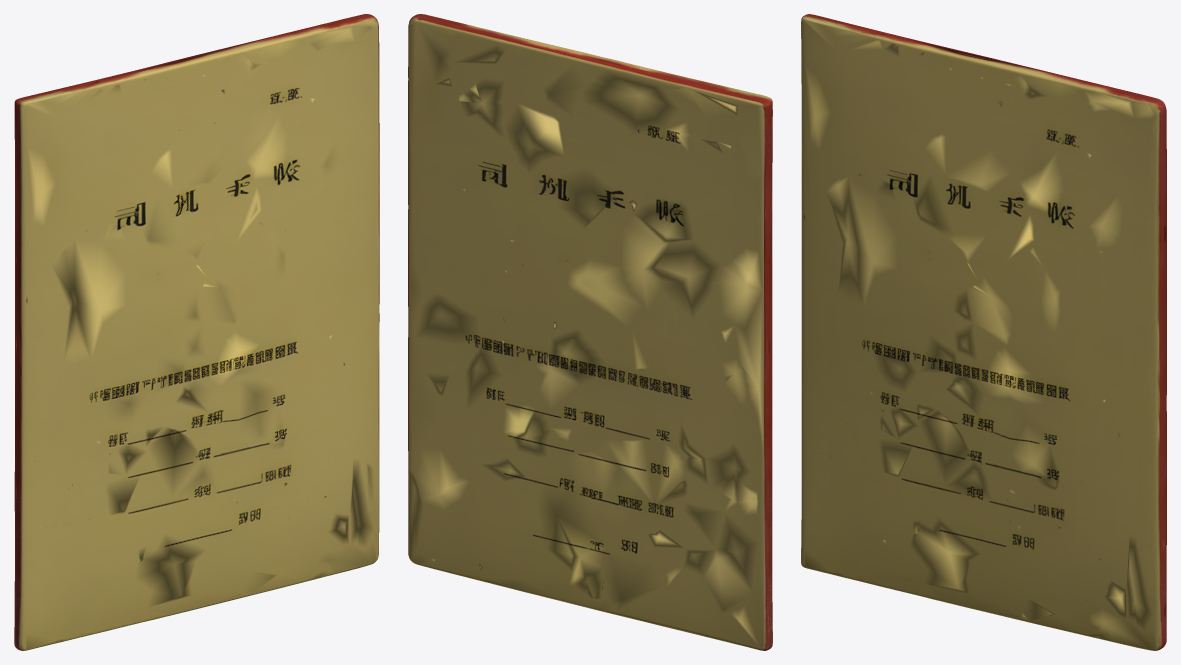
Rendered from driver-notebook-closed-lite.glb.
The picture shows the model from 3 angles, left to right: view 1: azimuth 30°, elevation 25°; view 2: azimuth 150°, elevation 25°; view 3: azimuth 330°, elevation 25°; orthographic projection.
Visible parts, largest first — view 1: node_0; view 2: node_0; view 3: node_0.
Boxes of the visible parts, x1,y1,x2,y2 form: node_0: [14, 14, 379, 650]; node_0: [408, 14, 772, 650]; node_0: [801, 14, 1166, 650].
Size of the model in its own units: 0.6835 by 0.9935 by 0.0415.
1 material, 1 textured.
